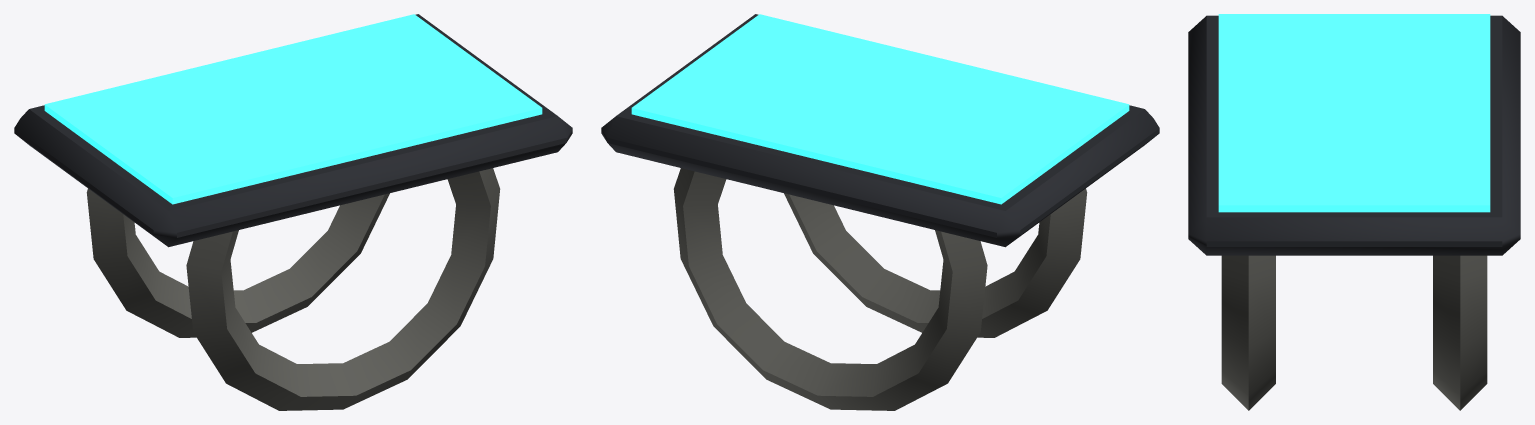
Rendered from SM_Tablet_Muneca.fbx.
The picture shows the model from 3 angles, left to right: view 1: azimuth 30°, elevation 25°; view 2: azimuth 150°, elevation 25°; view 3: azimuth 270°, elevation 25°; orthographic projection. The views are drawn at different scales.
Parts seen in each view (by area): view 1: SM_Tablet_Muneca; view 2: SM_Tablet_Muneca; view 3: SM_Tablet_Muneca.
Boxes of the visible parts, left/top/right/bottom form: SM_Tablet_Muneca: left=14, top=14, right=572, bottom=410; SM_Tablet_Muneca: left=601, top=14, right=1159, bottom=410; SM_Tablet_Muneca: left=1188, top=14, right=1520, bottom=410.
Bounding box in the file's own units: 0.17 × 0.1035 × 0.11.
